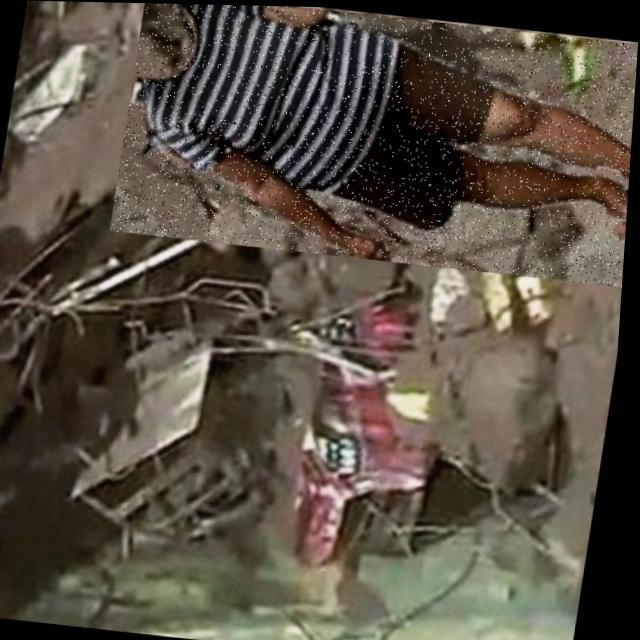Person in Rubble: (110, 2, 640, 283)
